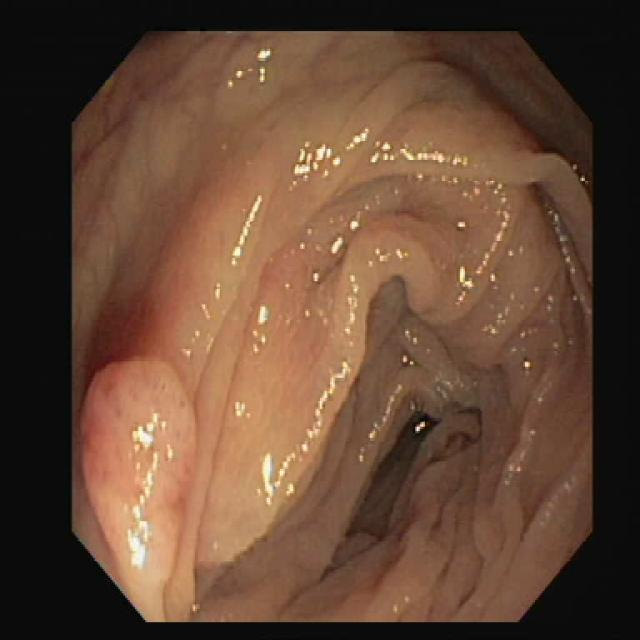tumor: (78, 358, 195, 618)
